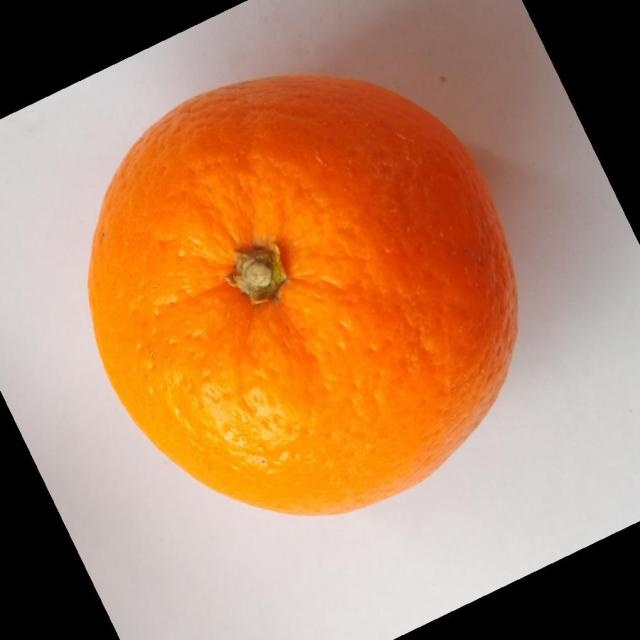agrume: (87, 72, 520, 517)
